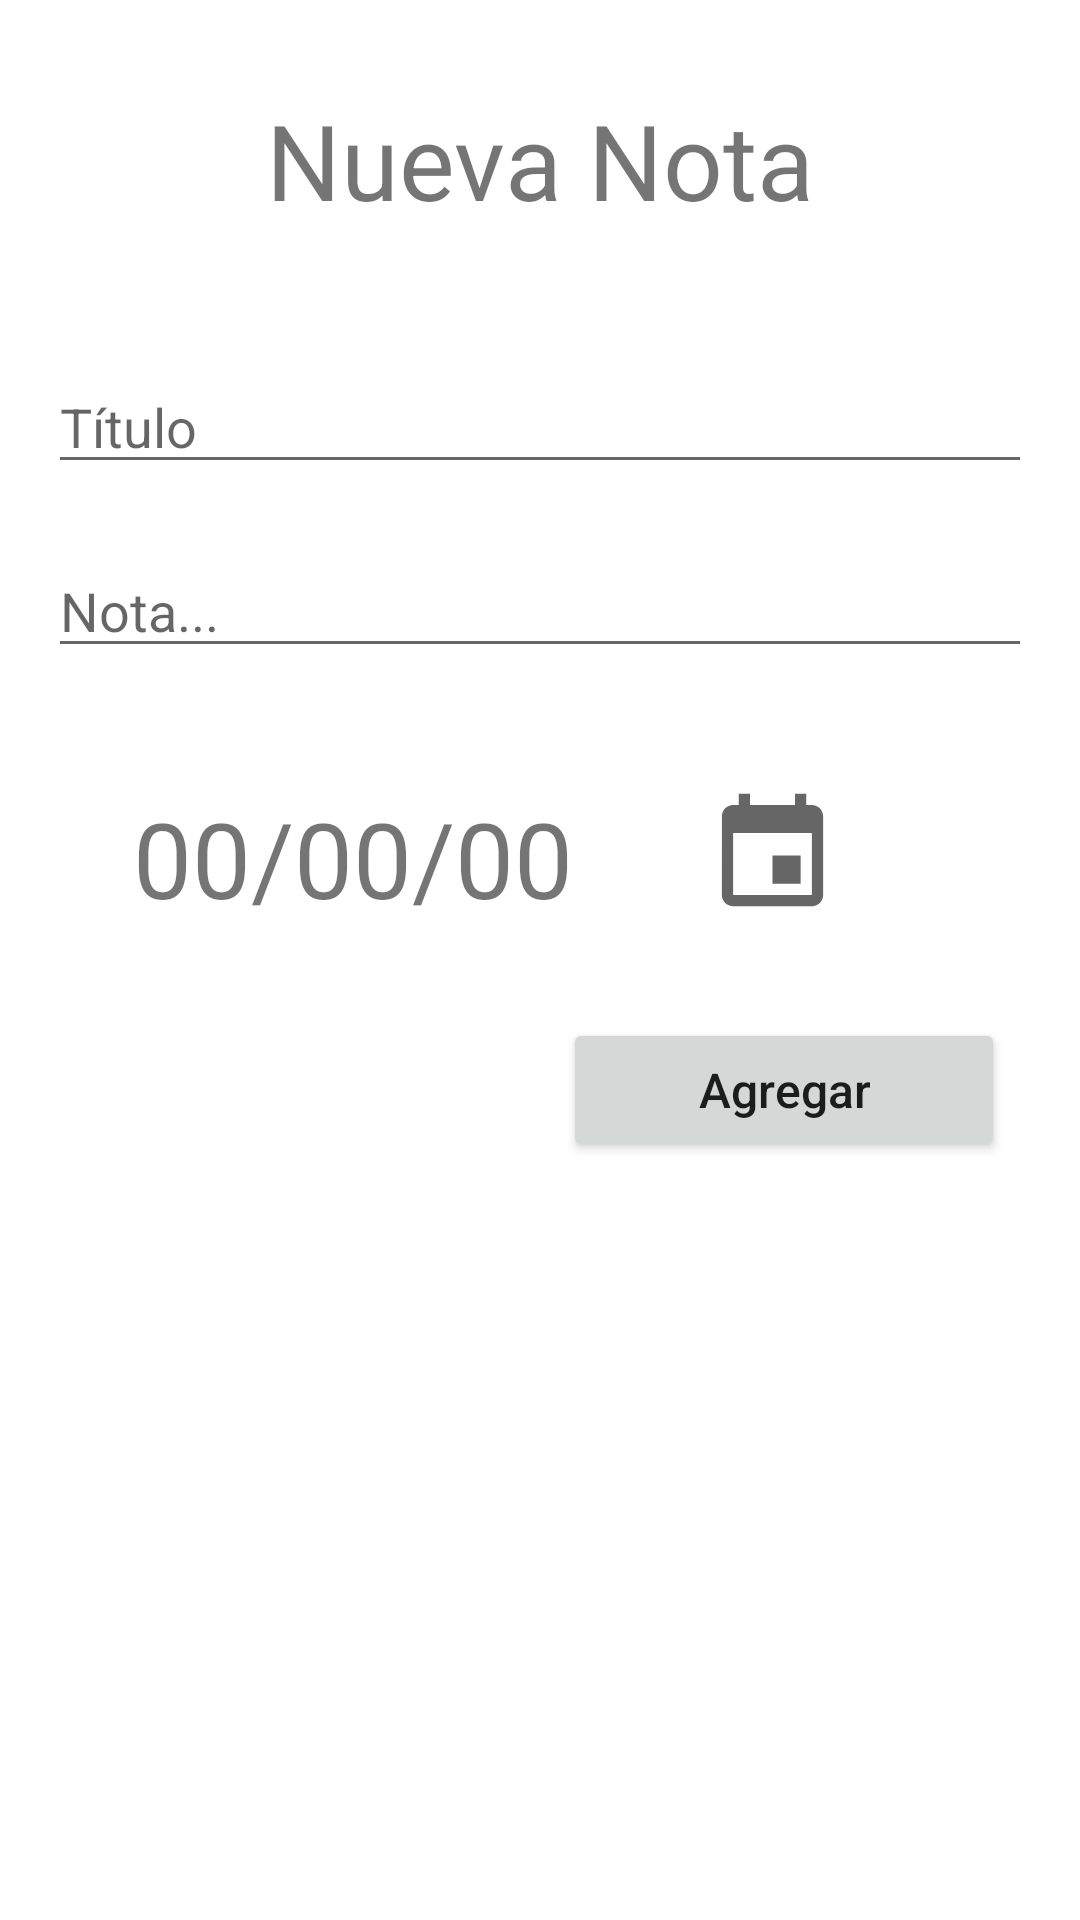

Icons on this 1080×1920 Android screen, each with its box as rect(x1, y1, x2, y2):
event: rect(722, 793, 823, 907)
